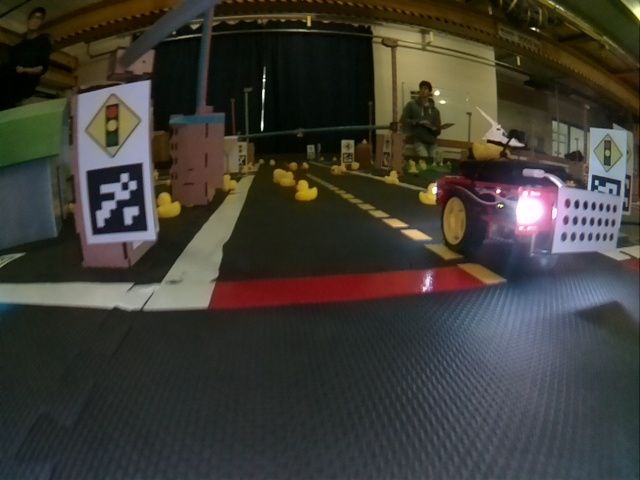Duckie: (157, 192, 179, 218), (296, 181, 317, 201), (419, 183, 436, 203), (223, 174, 236, 191), (281, 171, 294, 186), (385, 171, 399, 184)
Duckiebot: (436, 160, 622, 258)
QR code: (85, 163, 149, 236)
Signal sign: (84, 94, 141, 160), (593, 134, 623, 167)
